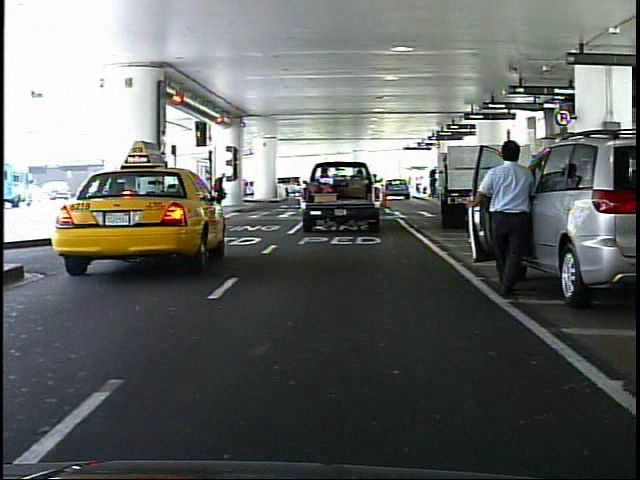person: (470, 130, 540, 297), (211, 167, 230, 209)
